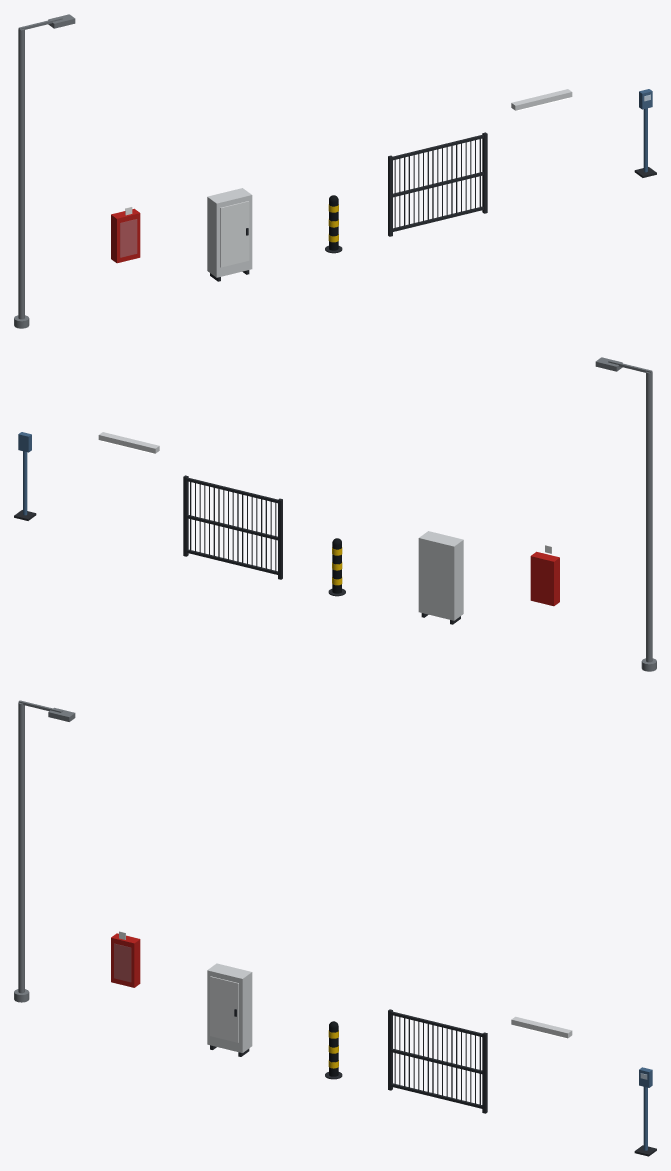
The model's file is Utility props.glb.
The picture shows the model from 3 angles, top to bottom: view 1: azimuth 30°, elevation 25°; view 2: azimuth 150°, elevation 25°; view 3: azimuth 330°, elevation 25°; orthographic projection.
Parts seen in each view (by area): view 1: Asset; view 2: Asset; view 3: Asset.
Boxes of the visible parts, left/top/right/bottom form: Asset: left=14, top=14, right=656, bottom=328; Asset: left=14, top=357, right=656, bottom=671; Asset: left=14, top=700, right=656, bottom=1156.
Bounding box in the file's own units: 13.49 × 6.03 × 0.4.
